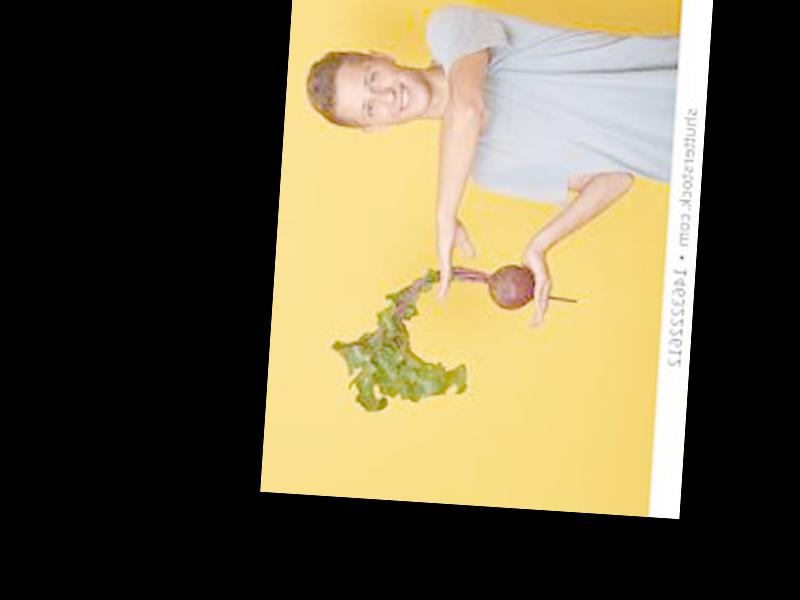Beet: (327, 253, 578, 425)
